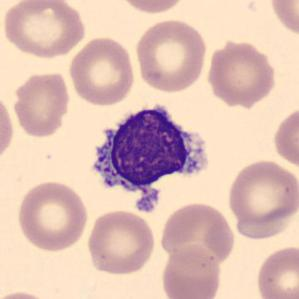Lymphocyte: (83, 96, 217, 218)
RBC: (133, 16, 209, 94), (14, 178, 90, 253), (225, 156, 298, 232), (158, 200, 237, 270), (0, 0, 89, 60), (204, 37, 280, 107), (66, 34, 136, 107), (84, 208, 158, 276), (11, 68, 72, 139), (159, 244, 223, 299), (254, 244, 299, 299), (231, 206, 296, 240), (271, 104, 298, 170), (267, 0, 299, 40), (0, 90, 16, 165), (113, 0, 191, 15), (1, 288, 56, 299)
